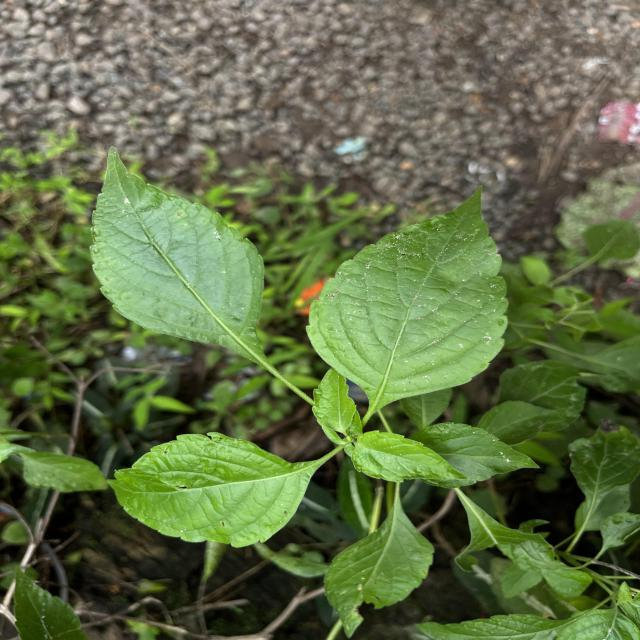Ocimum gratissimum: (301, 182, 512, 417), (85, 143, 282, 384), (102, 429, 323, 550), (320, 489, 438, 640), (408, 419, 542, 493), (349, 424, 477, 488)
